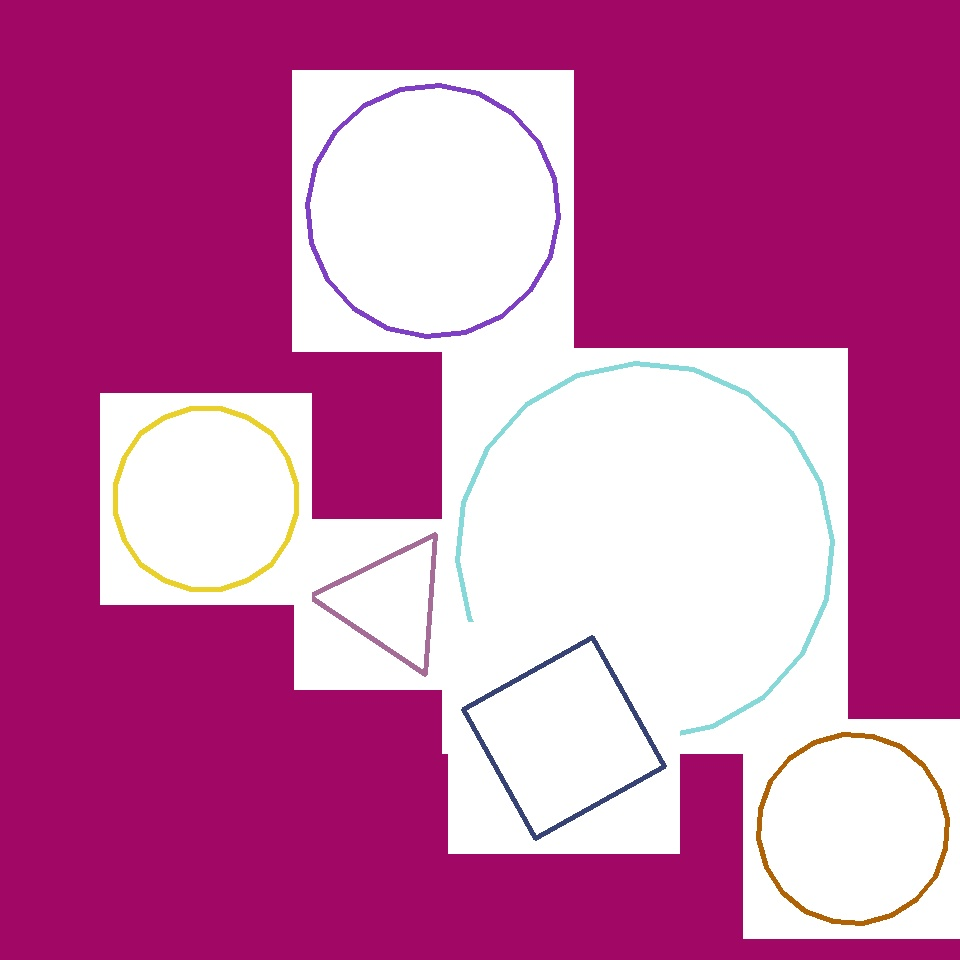circle: (327, 532, 453, 672), (282, 537, 401, 643)
square: (464, 638, 665, 839)
triangle: (458, 364, 832, 738), (280, 356, 560, 636), (308, 85, 558, 336), (421, 426, 614, 620), (758, 734, 948, 924), (115, 408, 296, 590)
